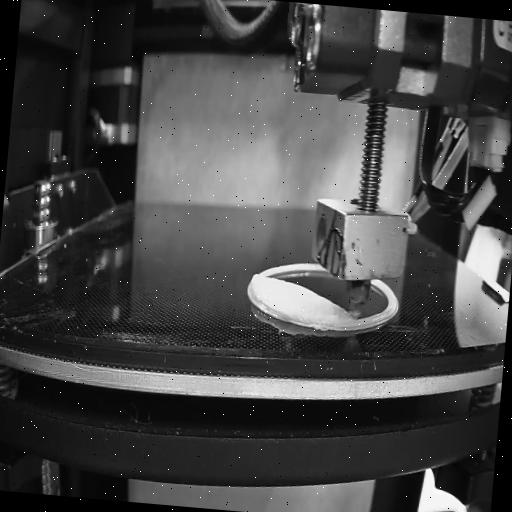over_extrusion: (246, 268, 264, 303)
